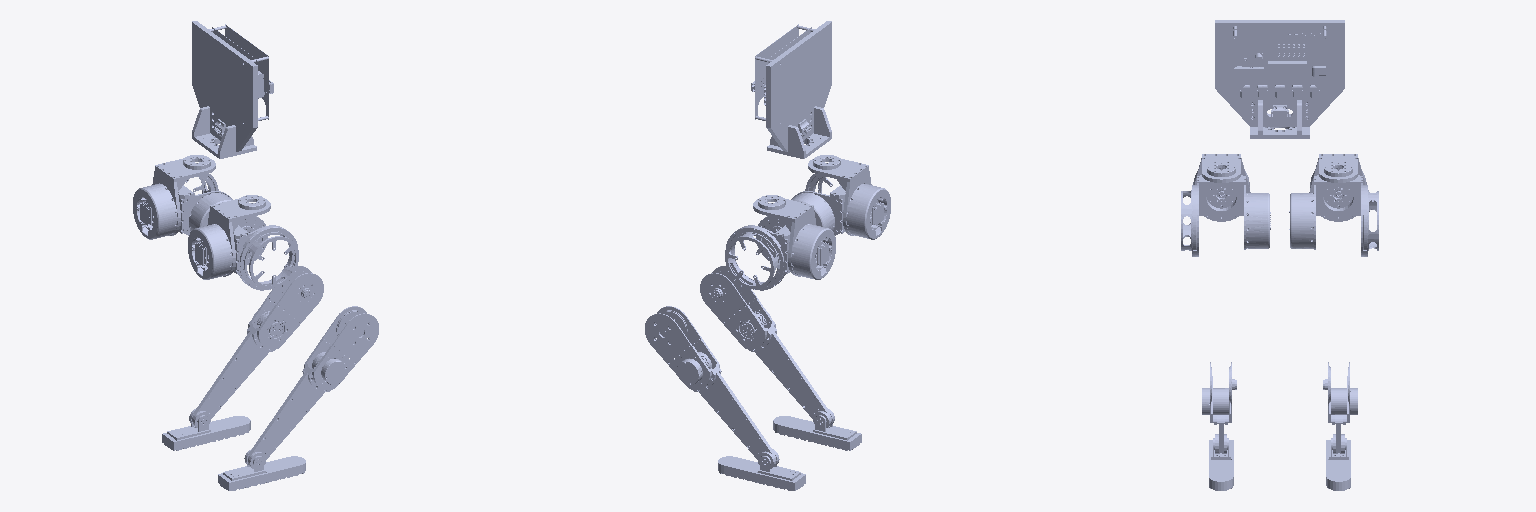
URDF robot description (Wholebody_URDF_IMU_Changed):
<?xml version="1.0" encoding="utf-8"?>
<!-- This URDF was automatically created by SolidWorks to URDF Exporter! Originally created by [author] ([email redacted]) 
     Commit Version: 1.6.0-4-g7f85cfe  Build Version: 1.6.7995.38578
     For more information, please see http://wiki.ros.org/sw_urdf_exporter -->
<robot
  name="Wholebody_URDF_IMU_Changed">
  <link
    name="Pelvis">
    <inertial>
      <origin
        xyz="-0.019109 5.2E-05 0.034798"
        rpy="0 0 0" />
      <mass
        value="6.661487" />
      <inertia
        ixx="0.074296"
        ixy="2.4E-05"
        ixz="0.001922"
        iyy="0.022851"
        iyz="-3E-06"
        izz="0.088688" />
    </inertial>
    <visual>
      <origin
        xyz="0 0 0"
        rpy="0 0 0" />
      <geometry>
        <mesh
          filename="meshes/Pelvis.STL" />
      </geometry>
      <material
        name="">
        <color
          rgba="0.79216 0.81961 0.93333 1" />
      </material>
    </visual>
    <collision>
      <origin
        xyz="-0.0275 0 0.165"
        rpy="0 0 0" />
          <geometry>
              <box size="0.21 0.38 0.33"/>
          </geometry>
    </collision>
  </link>
  <link
    name="Torso">
    <inertial>
      <origin
        xyz="0.022695 -0.002691 0.120679"
        rpy="0 0 0" />
      <mass
        value="1.561" />
      <inertia
        ixx="0.011959"
        ixy="8.7E-05"
        ixz="-0.001523"
        iyy="0.008677"
        iyz="0.000254"
        izz="0.005452" />
    </inertial>
    <visual>
      <origin
        xyz="0 0 0"
        rpy="0 0 0" />
      <geometry>
        <mesh
          filename="meshes/Torso.STL" />
      </geometry>
      <material
        name="">
        <color
          rgba="0.79216 0.81961 0.93333 1" />
      </material>
    </visual>
    <!-- <collision>
      <origin
        xyz="0 0 0"
        rpy="0 0 0" />
      <geometry>
        <mesh
          filename="meshes/Torso.STL" />
      </geometry>
    </collision> -->
  </link>
  <joint
    name="Waist_joint"
    type="fixed">
    <origin
      xyz="0 0 0.0825"
      rpy="0 0 0" />
    <parent
      link="Pelvis" />
    <child
      link="Torso" />
    <axis
      xyz="0 0 1" />
    <limit
      lower="-1.0472"
      upper="1.0472"
      effort="98"
      velocity="16" />
  </joint>
  <link
    name="L_hip">
    <inertial>
      <origin
        xyz="-0.087279 0 -0.069963"
        rpy="0 0 0" />
      <mass
        value="1.544" />
      <inertia
        ixx="0.004068"
        ixy="0"
        ixz="-0.001054"
        iyy="0.004081"
        iyz="0"
        izz="0.00283" />
    </inertial>
    <visual>
      <origin
        xyz="0 0 0"
        rpy="0 0 0" />
      <geometry>
        <mesh
          filename="meshes/L_hip.STL" />
      </geometry>
      <material
        name="">
        <color
          rgba="0.79216 0.81961 0.93333 1" />
      </material>
    </visual>
    <!-- <collision>
      <origin
        xyz="-0.1 0 -0.084"
        rpy="0 1.57079632679 0" />
      <geometry>                                  
          <cylinder radius="0.06" length="0.055"/>
      </geometry>
    </collision> -->
  </link>
  <joint
    name="L_hip_joint"
    type="revolute">
    <origin
      xyz="0 0.1175 -0.0067"
      rpy="0 0 0" />
    <parent
      link="Pelvis" />
    <child
      link="L_hip" />
    <axis
      xyz="0 0 1" />
    <limit
      lower="-0.73"
      upper="0.73"
      effort="98"
      velocity="23" />
  </joint>
  <link
    name="L_hip2">
    <inertial>
      <origin
        xyz="0.076889 -0.034855 -0.014787"
        rpy="0 0 0" />
      <mass
        value="1.726000" />
      <inertia
        ixx="0.006963"
        ixy="0.000389"
        ixz="0.000363"
        iyy="0.004861"
        iyz="-0.000232"
        izz="0.007308" />
    </inertial>
    <visual>
      <origin
        xyz="0 0 0"
        rpy="0 0 0" />
      <geometry>
        <mesh
          filename="meshes/L_hip2.STL" />
      </geometry>
      <material
        name="">
        <color
          rgba="0.79216 0.81961 0.93333 1" />
      </material>
    </visual>
    <!-- <collision>
      <origin
        xyz="0 0 0"
        rpy="0 0 0" />
      <geometry>
        <mesh
          filename="meshes/L_hip2.STL" />
      </geometry>
    </collision> -->
  </link>
  <joint
    name="L_hip2_joint"
    type="revolute">
    <origin
      xyz="-0.0763 0 -0.084"
      rpy="0 0 0" />
    <parent
      link="L_hip" />
    <child
      link="L_hip2" />
    <axis
      xyz="1 0 0" />
    <limit
      lower="-0.18"
      upper="0.48"
      effort="98"
      velocity="23" />
  </joint>
  <link
    name="L_thigh">
    <inertial>
      <origin
        xyz="0.000014 0.025209 -0.126499"
        rpy="0 0 0" />
      <mass
        value="4.750102" />
      <inertia
        ixx="0.107593"
        ixy="0.000001"
        ixz="0.000009"
        iyy="0.107651"
        iyz="-0.006073"
        izz="0.008614" />
    </inertial>
    <visual>
      <origin
        xyz="0 0 0"
        rpy="0 0 0" />
      <geometry>
        <mesh
          filename="meshes/L_thigh.STL" />
      </geometry>
      <material
        name="">
        <color
          rgba="0.792156862745098 0.819607843137255 0.933333333333333 1" />
      </material>
    </visual>
    <collision>
      <origin
        xyz="0 0.0141 -0.175"
        rpy="0 0 0" />
      <geometry>                                  
          <cylinder radius="0.04" length="0.25"/>
      </geometry>
    </collision>
  </link>
  <joint
    name="L_thigh_joint"
    type="revolute">
    <origin
      xyz="0.084 -0.0148 -0.0185"
      rpy="0 -0.78539816339 0" />
    <parent
      link="L_hip2" />
    <child
      link="L_thigh" />
    <axis
      xyz="0 1 0" />
    <limit
      lower="-1.25"
      upper="1.1"
      effort="98"
      velocity="23" />
  </joint>
  <link
    name="L_calf">
    <inertial>
      <origin
        xyz="-0.000226 0.016658 -0.148439"
        rpy="0 0 0" />
      <mass
        value="1.326656" />
      <inertia
        ixx="0.016199"
        ixy="0.000009"
        ixz="0.000014"
        iyy="0.016302"
        iyz="0.000005"
        izz="0.000772" />
    </inertial>
    <visual>
      <origin
        xyz="0 0 0"
        rpy="0 0 0" />
      <geometry>
        <mesh
          filename="meshes/L_calf.STL" />
      </geometry>
      <material
        name="">
        <color
          rgba="0.792156862745098 0.819607843137255 0.933333333333333 1" />
      </material>
    </visual>
    <collision>
      <origin
        xyz="0 0.0141 -0.175"
        rpy="0 0 0" />
      <geometry>                                  
          <cylinder radius="0.04" length="0.25"/>
      </geometry>
    </collision>
  </link>
  <joint
    name="L_calf_joint"
    type="revolute">
    <origin
      xyz="0 0 -0.35"
      rpy="0 1.571 0" />
    <parent
      link="L_thigh" />
    <child
      link="L_calf" />
    <axis
      xyz="0 1 0" />
    <limit
      lower="-1.571"
      upper="0.529"
      effort="98"
      velocity="15" />
  </joint>
  <link
    name="L_toe">
    <inertial>
      <origin
        xyz="0.002701 0.015076 -0.032168"
        rpy="0 0 0" />
      <mass
        value="0.520" />
      <inertia
        ixx="0.000162"
        ixy="0.000016"
        ixz="0.000083"
        iyy="0.001485"
        iyz="0.000003"
        izz="0.001511" />
    </inertial>
    <visual>
      <origin
        xyz="0 0 0"
        rpy="0 0 0" />
      <geometry>
        <mesh
          filename="meshes/L_toe_old.STL" />
      </geometry>
      <material
        name="">
        <color
          rgba="0.792156862745098 0.819607843137255 0.933333333333333 1" />
      </material>
    </visual>
    <collision>
      <!-- <origin
        xyz="0.02 0.0155 -0.038"
        rpy="0 0 0" />
          <geometry>
              <box size="0.195 0.05 0.022"/>
          </geometry> -->
      <origin
        xyz="0 0 0"
        rpy="0 0 0" />
      <geometry>
        <mesh
          filename="meshes/L_toe_old.STL" />
      </geometry>
    </collision>
    
  </link>
  <joint
    name="L_toe_joint"
    type="revolute">
    <origin
      xyz="0 0 -0.35"
      rpy="0 -0.78539815339 0" />
    <parent
      link="L_calf" />
    <child
      link="L_toe" />
    <axis
      xyz="0 1 0" />
    <limit
      lower="-0.3"
      upper="1.5"
      effort="25"
      velocity="11.5" />
  </joint>
    <!-- <link name="L_end_effector">
    <visual>
      <origin xyz="0 0 0" rpy="0 0 0" />
      <geometry>
        <sphere radius="0.0001" />
      </geometry>
      <material name=""> 
        <color rgba="0 0 0 0" />
      </material>
    </visual>
  </link> -->
  <!-- <joint name="L_end_joint"
    type="fixed">
    <origin
      xyz="0 0 -0.049"
      rpy="0 0 0" />
    <parent
      link="L_toe" />
    <child
      link="L_end_effector" />
    <axis
      xyz="0 0 0" />
    <limit
      lower="0"
      upper="0"
      effort="0"
      velocity="0" />
  </joint> -->
  <link
    name="R_hip">
    <inertial>
      <origin
        xyz="-0.087279 0 -0.069963"
        rpy="0 0 0" />
      <mass
        value="1.544" />
      <inertia
        ixx="0.004068"
        ixy="0"
        ixz="-0.001054"
        iyy="0.004081"
        iyz="0"
        izz="0.00283" />
    </inertial>
    <visual>
      <origin
        xyz="0 0 0"
        rpy="0 0 0" />
      <geometry>
        <mesh
          filename="meshes/R_hip.STL" />
      </geometry>
      <material
        name="">
        <color
          rgba="0.79216 0.81961 0.93333 1" />
      </material>
    </visual>
    <!-- <collision>
      <origin
        xyz="-0.1 0 -0.084"
        rpy="0 1.57079632679 0" />
      <geometry>                                  
          <cylinder radius="0.06" length="0.055"/>
      </geometry>
    </collision> -->
  </link>
  <joint
    name="R_hip_joint"
    type="revolute">
    <origin
      xyz="0 -0.1175 -0.0067"
      rpy="0 0 0" />
    <parent
      link="Pelvis" />
    <child
      link="R_hip" />
    <axis
      xyz="0 0 1" />
    <limit
      lower="-0.73"
      upper="0.73"
      effort="98"
      velocity="23" />
  </joint>
  <link
    name="R_hip2">
    <inertial>
      <origin
        xyz="0.076889 0.034855 -0.014787"
        rpy="0 0 0" />
      <mass
        value="1.726000" />
      <inertia
        ixx="0.006963"
        ixy="-0.000389"
        ixz="0.000363"
        iyy="0.004861"
        iyz="0.000232"
        izz="0.007308" />
    </inertial>
    <visual>
      <origin
        xyz="0 0 0"
        rpy="0 0 0" />
      <geometry>
        <mesh
          filename="meshes/R_hip2.STL" />
      </geometry>
      <material
        name="">
        <color
          rgba="0.792156862745098 0.819607843137255 0.933333333333333 1" />
      </material>
    </visual>
    <!-- <collision>
      <origin
        xyz="0 0 0"
        rpy="0 0 0" />
      <geometry>
        <mesh
          filename="meshes/R_hip2.STL" />
      </geometry>
    </collision> -->
  </link>
  <joint
    name="R_hip2_joint"
    type="revolute">
    <origin
      xyz="-0.0763 0 -0.084"
      rpy="0 0 0" />
    <parent
      link="R_hip" />
    <child
      link="R_hip2" />
    <axis
      xyz="1 0 0" />
    <limit
      lower="-0.48"
      upper="0.18"
      effort="98"
      velocity="23" />
  </joint>
  <link
    name="R_thigh">
    <inertial>
      <origin
        xyz="-0.000014 -0.025209 -0.126499"
        rpy="0 0 0" />
      <mass
        value="4.750102" />
      <inertia
        ixx="0.107593"
        ixy="0.000001"
        ixz="-0.000009"
        iyy="0.107651"
        iyz="0.006073"
        izz="0.008614" />
    </inertial>
    <visual>
      <origin
        xyz="0 0 0"
        rpy="0 0 0" />
      <geometry>
        <mesh
          filename="meshes/R_thigh.STL" />
      </geometry>
      <material
        name="">
        <color
          rgba="0.792156862745098 0.819607843137255 0.933333333333333 1" />
      </material>
    </visual>
    <collision>
      <origin
        xyz="0 -0.0141 -0.175"
        rpy="0 0 0" />
      <geometry>                                  
          <cylinder radius="0.04" length="0.25"/>
      </geometry>
    </collision>
  </link>
  <joint
    name="R_thigh_joint"
    type="revolute">
    <origin
      xyz="0.084 0.0148 -0.0185"
      rpy="0 -0.78539816339 0" />
    <parent
      link="R_hip2" />
    <child
      link="R_thigh" />
    <axis
      xyz="0 1 0" />
    <limit
      lower="-1.25"
      upper="1.1"
      effort="98"
      velocity="23" />
  </joint>
  <link
    name="R_calf">
    <inertial>
      <origin
        xyz="0.000226 -0.016658 -0.148439"
        rpy="0 0 0" />
      <mass
        value="1.326656" />
      <inertia
        ixx="0.016199"
        ixy="0.000009"
        ixz="-0.000014"
        iyy="0.016302"
        iyz="-0.000005"
        izz="0.000772" />
    </inertial>
    <visual>
      <origin
        xyz="0 0 0"
        rpy="0 0 0" />
      <geometry>
        <mesh
          filename="meshes/R_calf.STL" />
      </geometry>
      <material
        name="">
        <color
          rgba="0.792156862745098 0.819607843137255 0.933333333333333 1" />
      </material>
    </visual>
    <collision>
      <origin
        xyz="0 -0.0141 -0.175"
        rpy="0 0 0" />
      <geometry>                                  
          <cylinder radius="0.04" length="0.25"/>
      </geometry>
    </collision>
  </link>
  <joint
    name="R_calf_joint"
    type="revolute">
    <origin
      xyz="0 0 -0.35"
      rpy="0 1.571 0" />
    <parent
      link="R_thigh" />
    <child
      link="R_calf" />
    <axis
      xyz="0 1 0" />
    <limit
      lower="-1.571"
      upper="0.529"
      effort="98"
      velocity="15" />
  </joint>
  <link
    name="R_toe">
    <inertial>
      <origin
        xyz="0.002387 -0.015128 -0.032168"
        rpy="0 0 0" />
      <mass
        value="0.520" />
      <inertia
        ixx="0.000162"
        ixy="0.000012"
        ixz="0.000083"
        iyy="0.001485"
        iyz="-0.000004"
        izz="0.001511" />
    </inertial>
    <visual>
      <origin
        xyz="0 0 0"
        rpy="0 0 0" />
      <geometry>
        <mesh
          filename="meshes/R_toe_old.STL" />
      </geometry>
      <material
        name="">
        <color
          rgba="0.792156862745098 0.819607843137255 0.933333333333333 1" />
      </material>
    </visual>
    <collision>
      <!-- <origin
        xyz="0.02 -0.0155 -0.038"
        rpy="0 0 0" />
          <geometry>
              <box size="0.195 0.05 0.022"/>
          </geometry> -->
      <origin
        xyz="0 0 0"
        rpy="0 0 0" />
      <geometry>
        <mesh
          filename="meshes/R_toe_old.STL" />
      </geometry>
    </collision>
  </link>
  <joint
    name="R_toe_joint"
    type="revolute">
    <origin
      xyz="0 0 -0.35"
      rpy="0 -0.78539815339 0" />
    <parent
      link="R_calf" />
    <child
      link="R_toe" />
    <axis
      xyz="0 1 0" />
    <limit
      lower="-0.3"
      upper="1.5"
      effort="25"
      velocity="11.5" />
  </joint>
    <!-- <link name="R_end_effector">
    <visual>
      <origin xyz="0 0 0" rpy="0 0 0" />
      <geometry>
        <sphere radius="0.0001" />
      </geometry>
      <material name=""> 
        <color rgba="0 0 0 0" />
      </material>
    </visual>
  </link>
  <joint name="R_end_joint"
    type="fixed">
    <origin
      xyz="0 0 -0.049"
      rpy="0 0 0" />
    <parent
      link="R_toe" />
    <child
      link="R_end_effector" />
    <axis
      xyz="0 0 0" />
    <limit
      lower="0"
      upper="0"
      effort="0"
      velocity="0" />
  </joint> -->
</robot>

--- Facts derived from the render (not from the file) ---
Views: 3 orthographic renders of the robot side by side, from view 1: azimuth 30°, elevation 25°; view 2: azimuth 150°, elevation 25°; view 3: azimuth 270°, elevation 25°.
Model Wholebody_URDF_IMU_Changed with 12 links and 11 joints (10 revolute, 1 fixed), rooted at Pelvis, posed every joint at zero.
Links seen in each view (by area): view 1: Torso, R_calf, L_calf, R_hip, L_hip, R_hip2, L_toe, R_toe, L_hip2; view 2: Torso, L_calf, R_calf, L_hip, R_hip, L_hip2, R_toe, L_toe, R_hip2; view 3: Torso, R_hip2, L_hip2, L_hip, R_hip, L_calf, R_calf, L_toe, R_toe.
Boxes of the visible links, x1=… form: Torso: x1=192, y1=21, x2=273, y2=158; R_calf: x1=244, y1=306, x2=378, y2=468; L_calf: x1=189, y1=266, x2=323, y2=427; R_hip: x1=188, y1=195, x2=270, y2=279; L_hip: x1=133, y1=155, x2=215, y2=239; R_hip2: x1=233, y1=216, x2=298, y2=290; L_toe: x1=162, y1=415, x2=250, y2=450; R_toe: x1=218, y1=456, x2=305, y2=490; L_hip2: x1=178, y1=174, x2=232, y2=235; Torso: x1=751, y1=21, x2=831, y2=158; L_calf: x1=645, y1=306, x2=779, y2=468; R_calf: x1=700, y1=266, x2=834, y2=427; L_hip: x1=753, y1=195, x2=835, y2=279; R_hip: x1=808, y1=155, x2=890, y2=239; L_hip2: x1=725, y1=216, x2=790, y2=290; R_toe: x1=773, y1=415, x2=861, y2=450; L_toe: x1=718, y1=456, x2=805, y2=490; R_hip2: x1=791, y1=174, x2=845, y2=235; Torso: x1=1215, y1=20, x2=1344, y2=138; R_hip2: x1=1181, y1=175, x2=1270, y2=256; L_hip2: x1=1289, y1=175, x2=1378, y2=256; L_hip: x1=1309, y1=154, x2=1366, y2=221; R_hip: x1=1193, y1=154, x2=1250, y2=221; L_calf: x1=1323, y1=362, x2=1357, y2=453; R_calf: x1=1202, y1=362, x2=1236, y2=453; L_toe: x1=1326, y1=438, x2=1350, y2=490; R_toe: x1=1209, y1=438, x2=1233, y2=490.
Size in the robot's own frame: 0.4312 by 0.3994 by 0.9816 metres.
Meshes: 12 distinct files referenced, 9 mesh visuals loaded (9 binary STL); not drawn: 3 (reference not matched to a file when rendering).